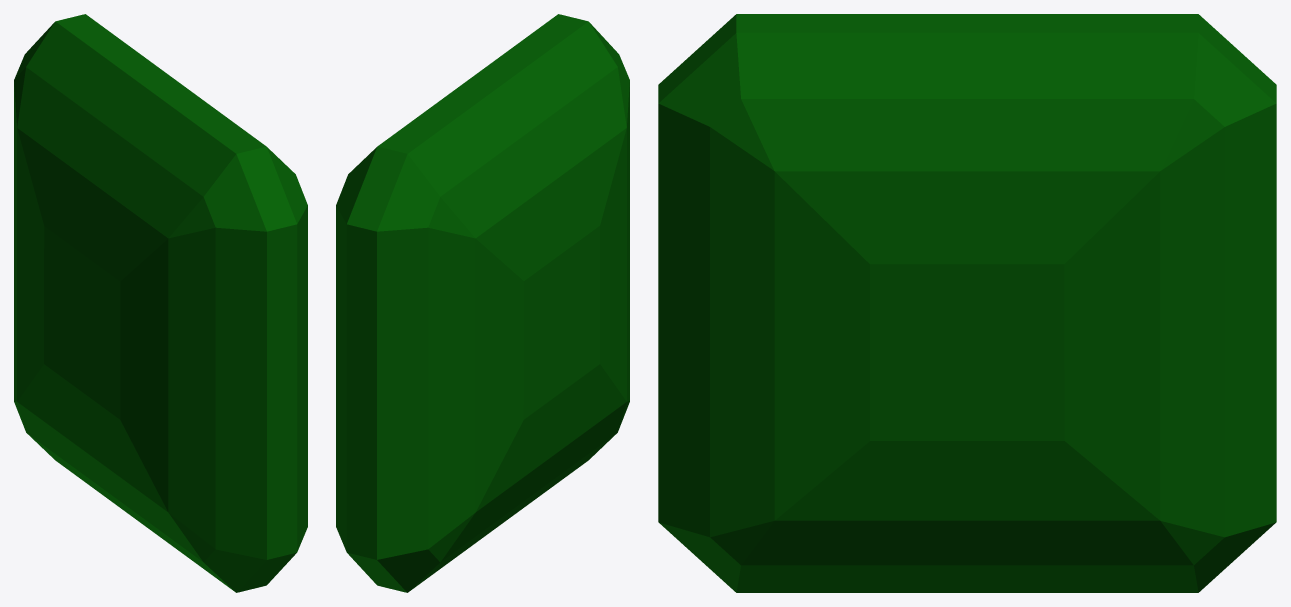
The model's file is SM_Emerald.glb.
The picture shows the model from 3 angles, left to right: view 1: azimuth 30°, elevation 25°; view 2: azimuth 150°, elevation 25°; view 3: azimuth 270°, elevation 25°; orthographic projection. The views are drawn at different scales.
Parts seen in each view (by area): view 1: SM_Emerald; view 2: SM_Emerald; view 3: SM_Emerald.
Boxes of the visible parts, left/top/right/bottom form: SM_Emerald: left=14, top=14, right=307, bottom=592; SM_Emerald: left=336, top=14, right=629, bottom=592; SM_Emerald: left=658, top=14, right=1276, bottom=592.
Size of the model in its own units: 0.0798 by 0.2122 by 0.2122.
Materials: 1 (1 with a texture image).
